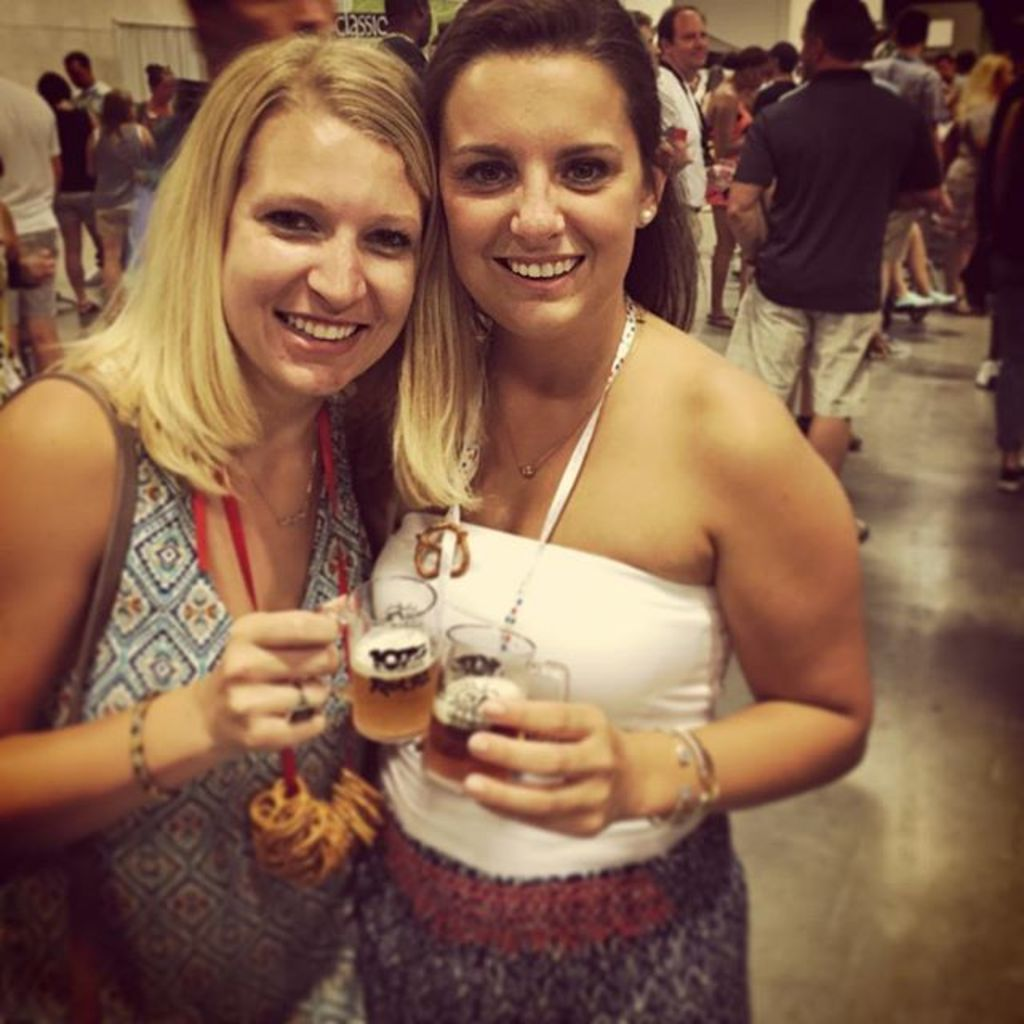Beer: (420, 675, 536, 788), (350, 624, 438, 745)
